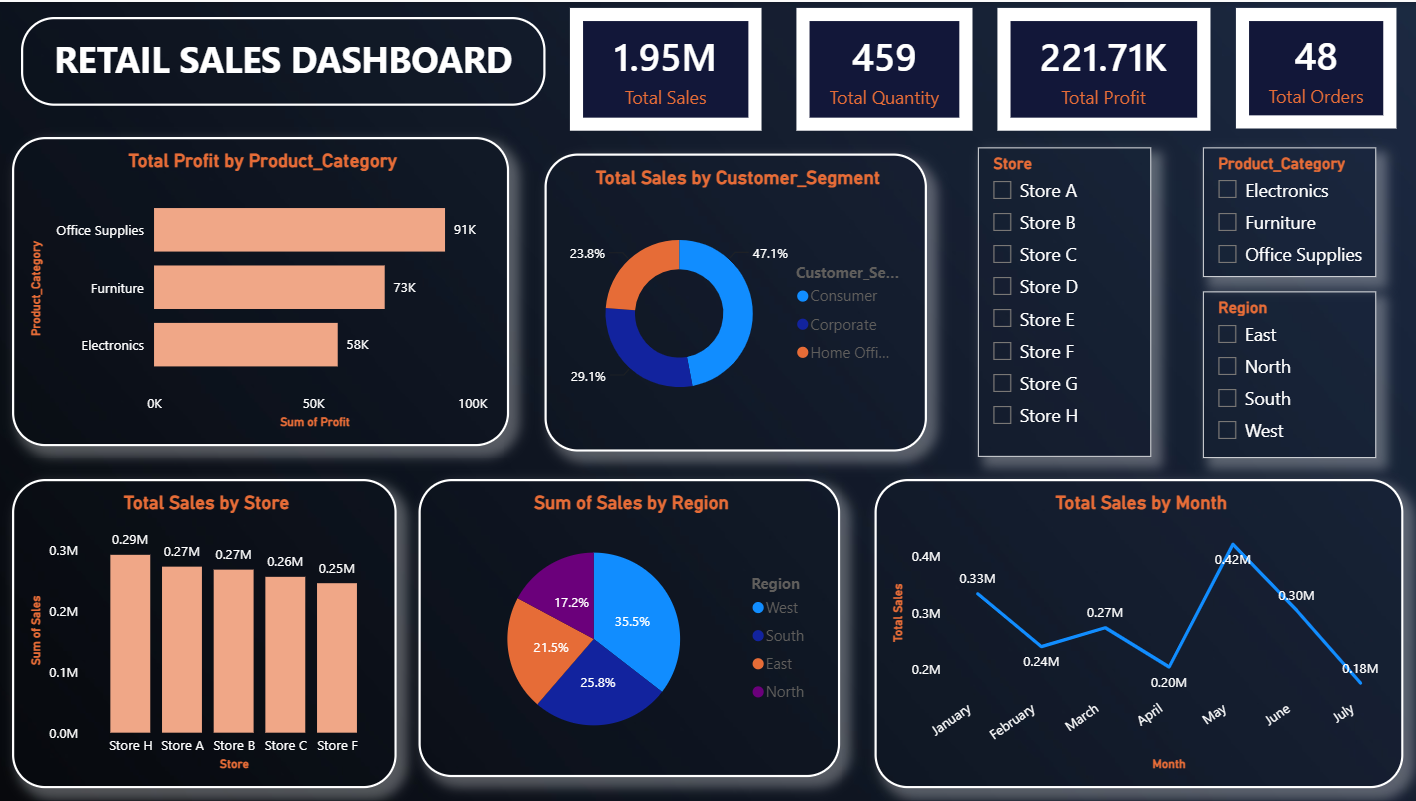

The dashboard page shown, as its layout file describes it:
{"tool":"powerbi","page":{"name":"Page 1","canvas":[1280,720],"ordinal":0},"visuals":[{"type":"textbox","box":[21.2,13.6,472.4,80.3],"z":0},{"type":"columnChart","title":"Total Sales by Store","fields":{"Category":["retail_sales.Store"],"Y":["Sum(retail_sales.Sales)"]},"box":[13.6,430,346.8,278.6],"z":1000},{"type":"barChart","title":"Total Profit by Product_Category","fields":{"Category":["retail_sales.Product_Category"],"Y":["Sum(retail_sales.Profit)"]},"box":[13.6,121.1,448.2,278.6],"z":2000},{"type":"pieChart","fields":{"Category":["retail_sales.Region"],"Y":["Sum(retail_sales.Sales)"]},"box":[379.8,429.8,379.8,269],"z":3000},{"type":"lineChart","fields":{"Category":["retail_sales.Order_Date.Variation.Date Hierarchy.Month"],"Y":["retail_sales.Total Sales"]},"box":[790.4,430,477,278.6],"z":4000},{"type":"donutChart","fields":{"Category":["retail_sales.Customer_Segment"],"Y":["retail_sales.Total Sales"]},"box":[493.6,136.3,344.7,269],"z":5000},{"type":"cardVisual","fields":{"Data":["retail_sales.Total Sales"]},"box":[510.3,0,183.2,121.1],"z":6000},{"type":"cardVisual","fields":{"Data":["retail_sales.Total Quantity"]},"box":[714.7,0,169.6,121.1],"z":7000},{"type":"cardVisual","fields":{"Data":["retail_sales.Total Profit"]},"box":[896.4,0,202.9,121.1],"z":7001},{"type":"cardVisual","fields":{"Data":["retail_sales.Total Orders"]},"box":[1111.4,0,156,119.6],"z":7002},{"type":"slicer","fields":{"Values":["retail_sales.Region"]},"box":[1087.2,260.4,156,149.9],"z":7003},{"type":"slicer","fields":{"Values":["retail_sales.Product_Category"]},"box":[1087.2,131.7,156,116.6],"z":7004},{"type":"slicer","fields":{"Values":["retail_sales.Store"]},"box":[884.3,131.7,156,278.6],"z":7005}]}

Visuals, with their boxes in screenshot pixels (x1, y1, x2, y2), scaled from the page's 1280x720 canvas onto the 1416x801 screenshot:
textbox: (left=23, top=15, right=546, bottom=104)
"Total Sales by Store" columnChart: (left=15, top=478, right=399, bottom=788)
"Total Profit by Product_Category" barChart: (left=15, top=135, right=511, bottom=445)
pieChart - retail_sales.Region x Sum(retail_sales.Sales): (left=420, top=478, right=840, bottom=777)
lineChart - retail_sales.Order_Date.Variation.Date Hierarchy.Month x retail_sales.Total Sales: (left=874, top=478, right=1402, bottom=788)
donutChart - retail_sales.Customer_Segment x retail_sales.Total Sales: (left=546, top=152, right=927, bottom=451)
cardVisual - retail_sales.Total Sales: (left=565, top=0, right=767, bottom=135)
cardVisual - retail_sales.Total Quantity: (left=791, top=0, right=978, bottom=135)
cardVisual - retail_sales.Total Profit: (left=992, top=0, right=1216, bottom=135)
cardVisual - retail_sales.Total Orders: (left=1229, top=0, right=1402, bottom=133)
slicer - retail_sales.Region: (left=1203, top=290, right=1375, bottom=456)
slicer - retail_sales.Product_Category: (left=1203, top=147, right=1375, bottom=276)
slicer - retail_sales.Store: (left=978, top=147, right=1151, bottom=456)
